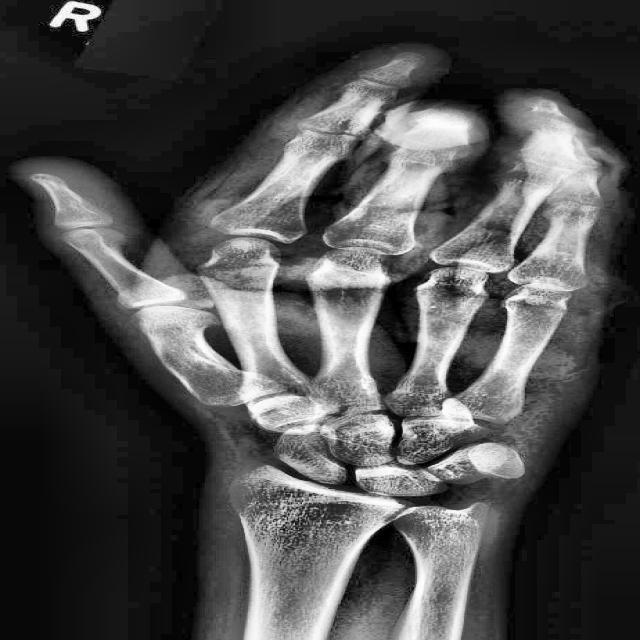fracture: (382, 102, 488, 146)
